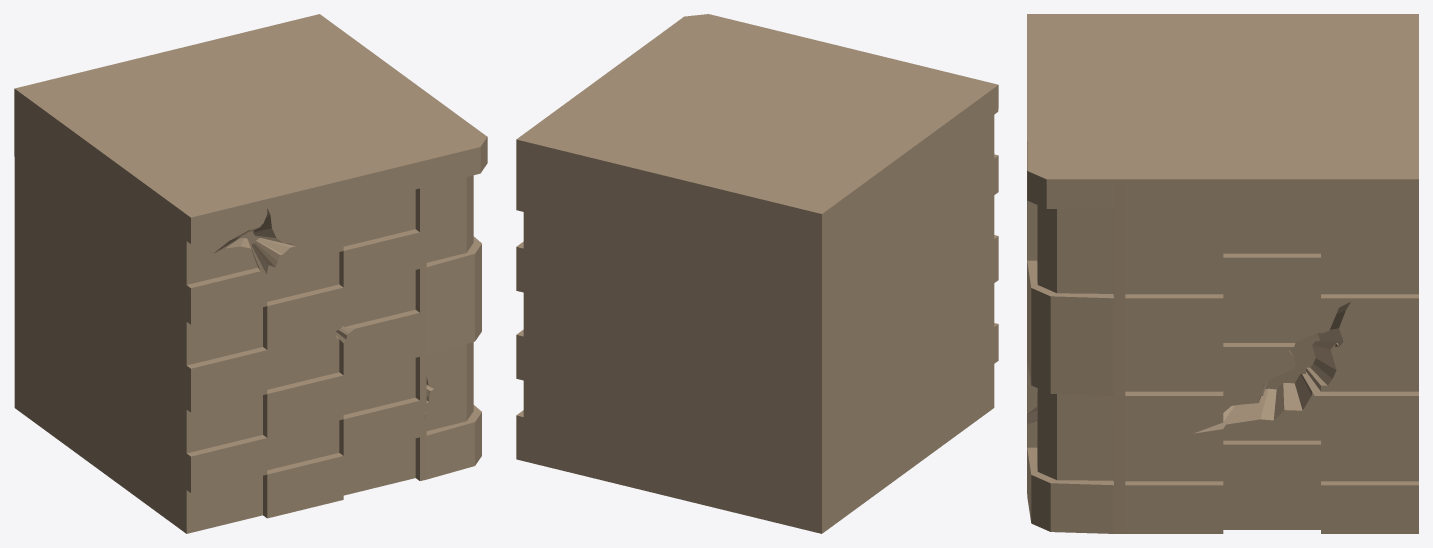
File: cornerBlock_broken1.fbx
The picture shows the model from 3 angles, left to right: view 1: azimuth 30°, elevation 25°; view 2: azimuth 150°, elevation 25°; view 3: azimuth 270°, elevation 25°; orthographic projection. The views are drawn at different scales.
Visible parts, largest first — view 1: cornerBlock_broken1; view 2: cornerBlock_broken1; view 3: cornerBlock_broken1.
Part boxes in pixels (left/top/right/bottom): cornerBlock_broken1: left=14, top=14, right=487, bottom=533; cornerBlock_broken1: left=516, top=14, right=998, bottom=533; cornerBlock_broken1: left=1027, top=14, right=1418, bottom=533.
Size of the model in its own units: 400 by 400 by 400.
